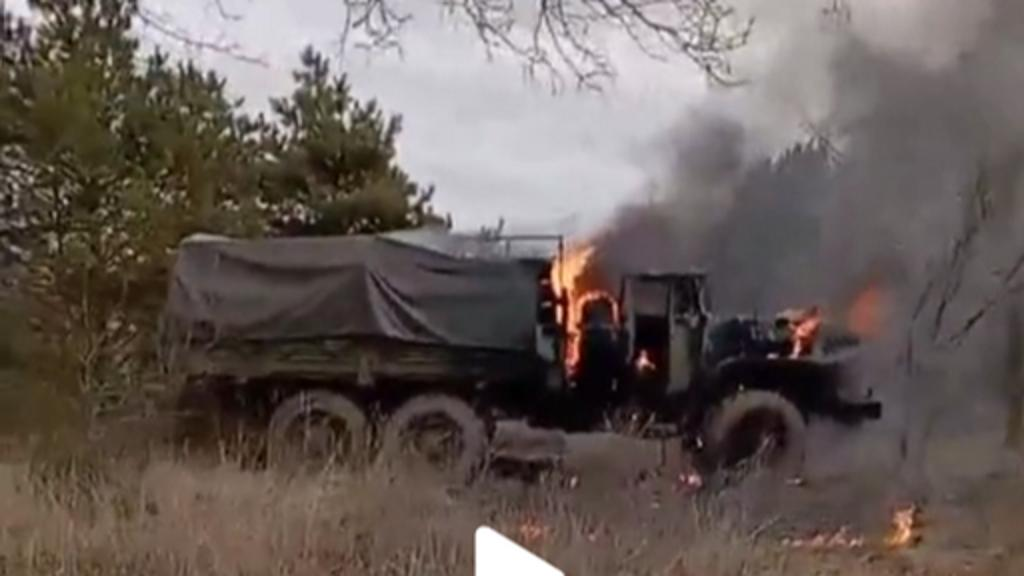TRUCK: (148, 210, 896, 498)
